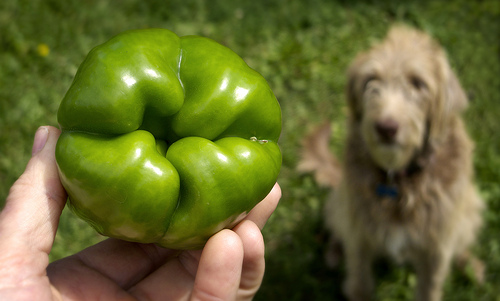capsicum: (56, 30, 284, 246)
